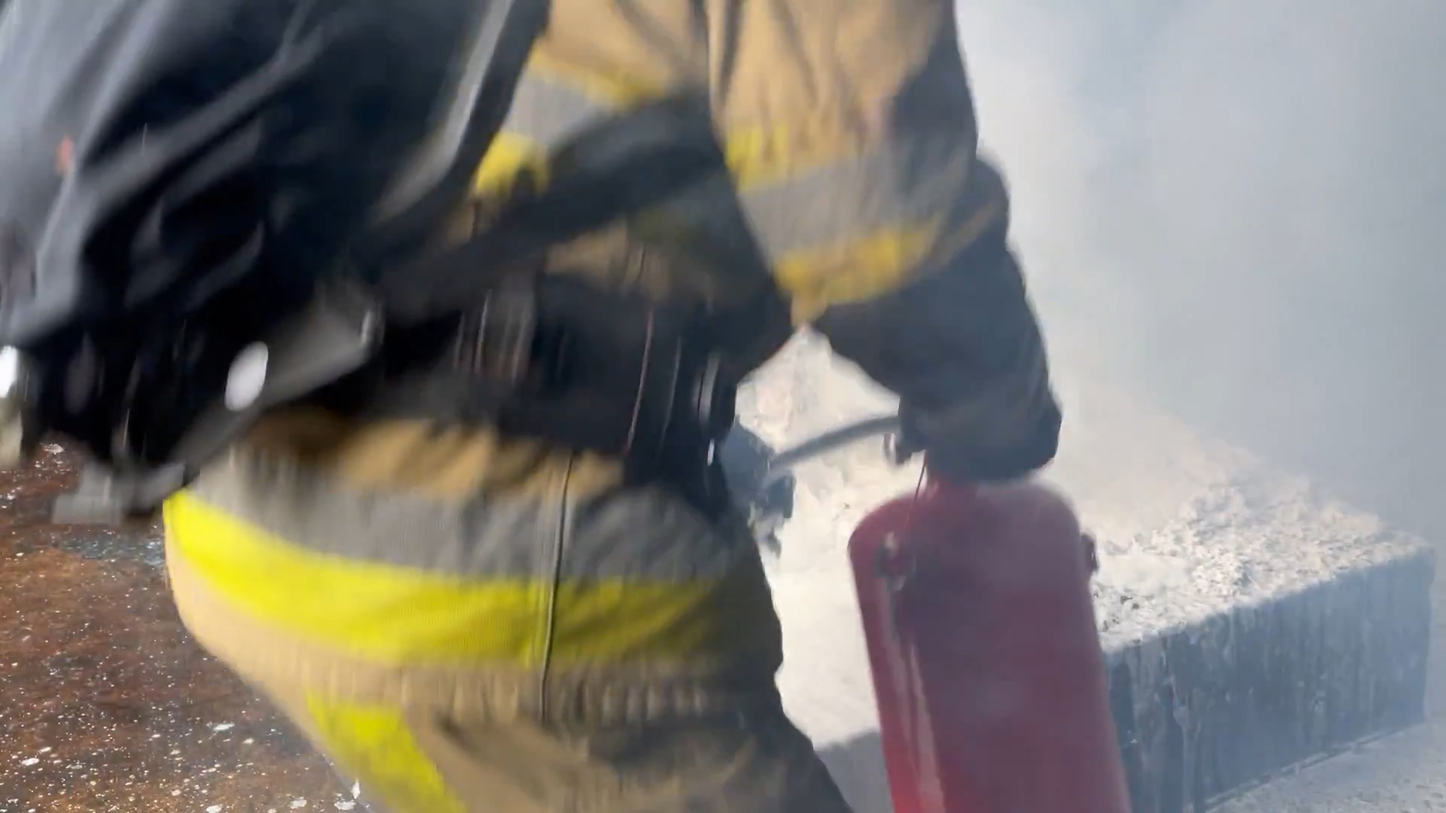smoke: (953, 3, 1400, 556)
